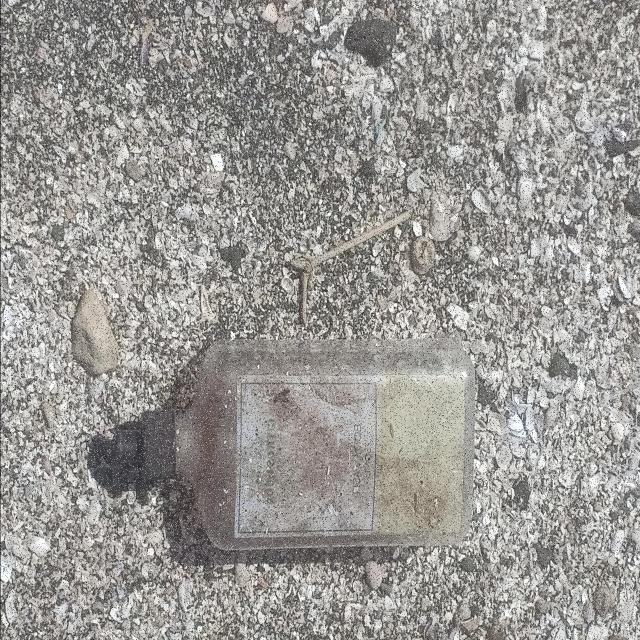plastic_waste: (115, 339, 477, 553)
